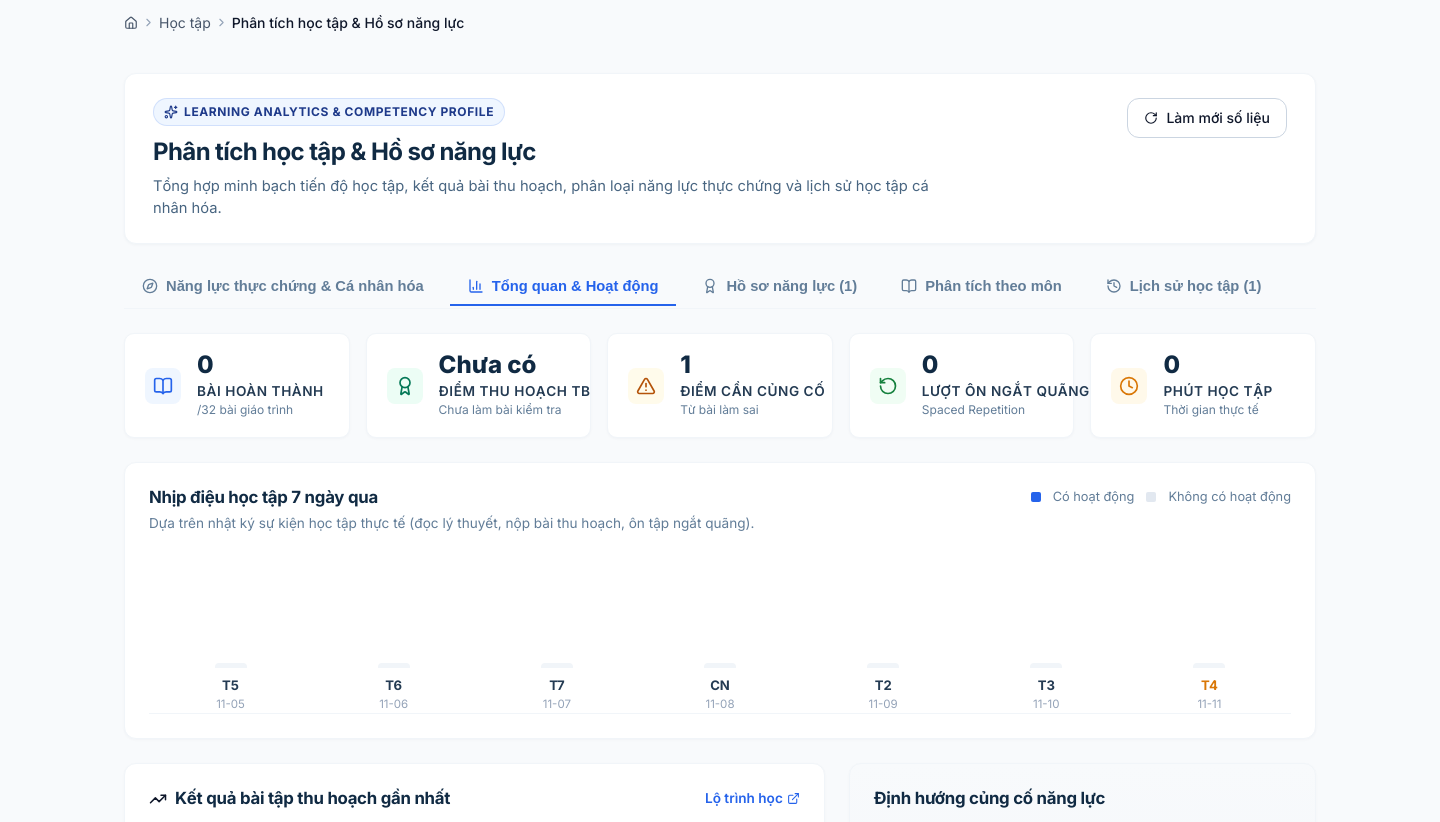
Test: LearningAnalyticsPage Component Suite › switches to Competency Profile tab and renders educational notice & topic cards
This screenshot has width=1440, height=822.
# Click Competency Tab
Click the tab "Hồ sơ năng lực (1)".
click(780, 287)  # box [684,268,875,306]
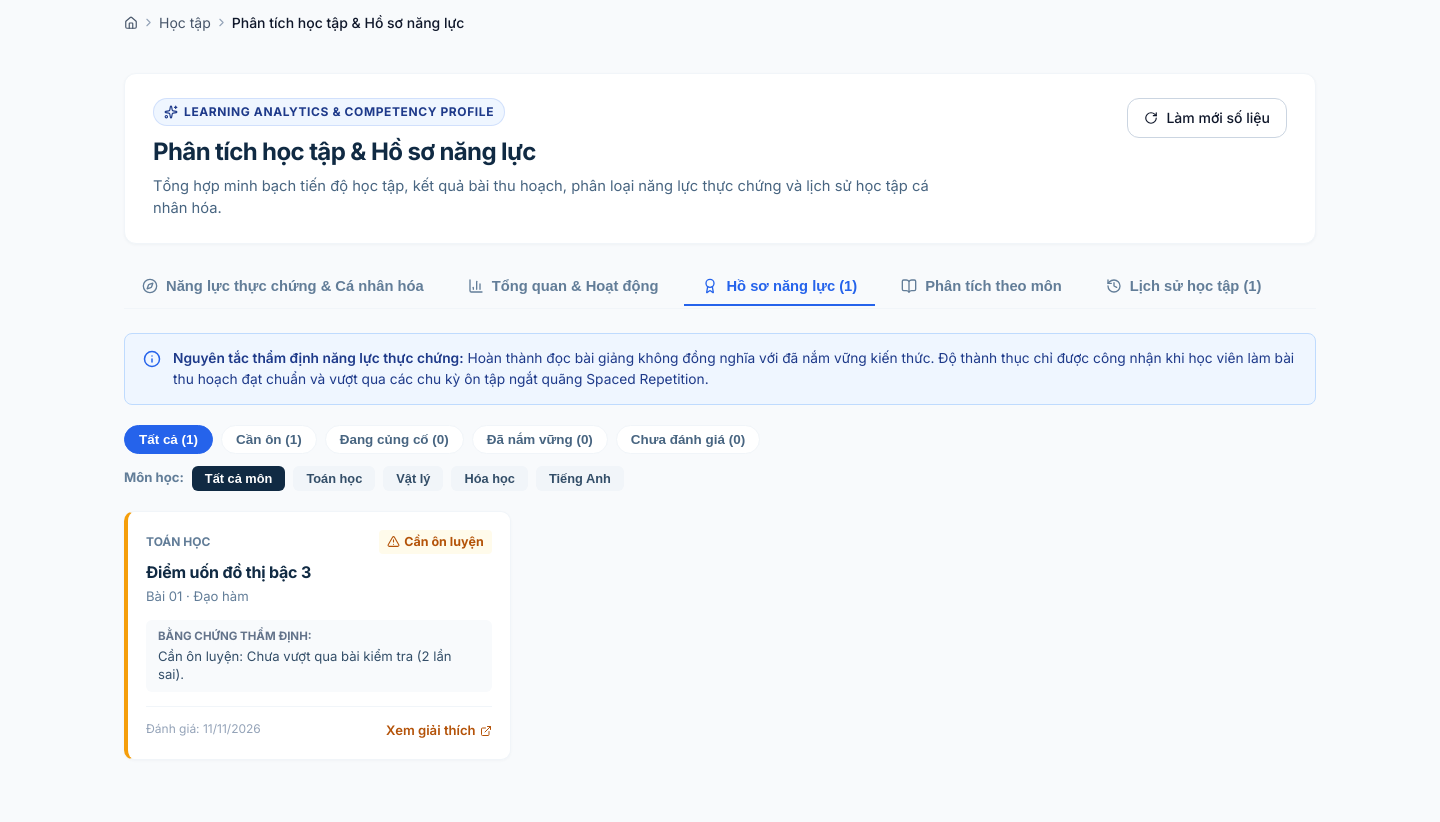
Expected: the text "Hoàn thành đọc bài giảng không đồng nghĩa với đã nắm vững kiến thức" is shown, [173,350,1294,387]
Expected: the heading "Điểm uốn đồ thị bậc 3" is shown, [146,562,311,582]
Expected: the button "Cần ôn (1)" is shown, [221,425,317,454]
